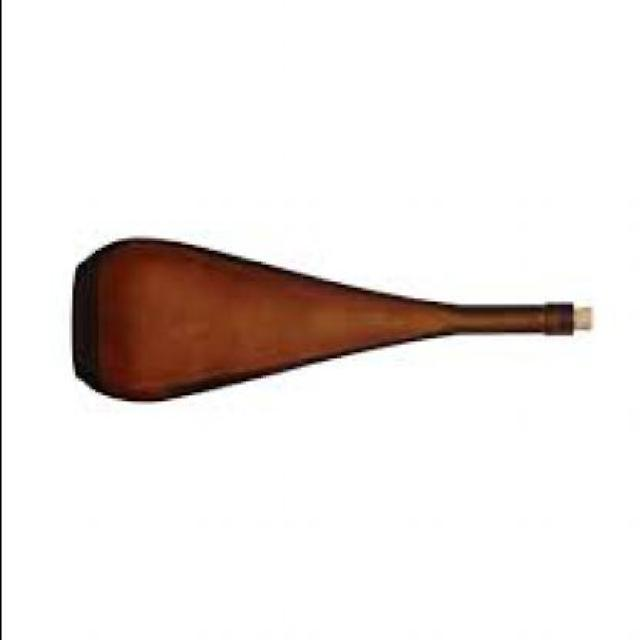glass: (74, 242, 575, 404)
